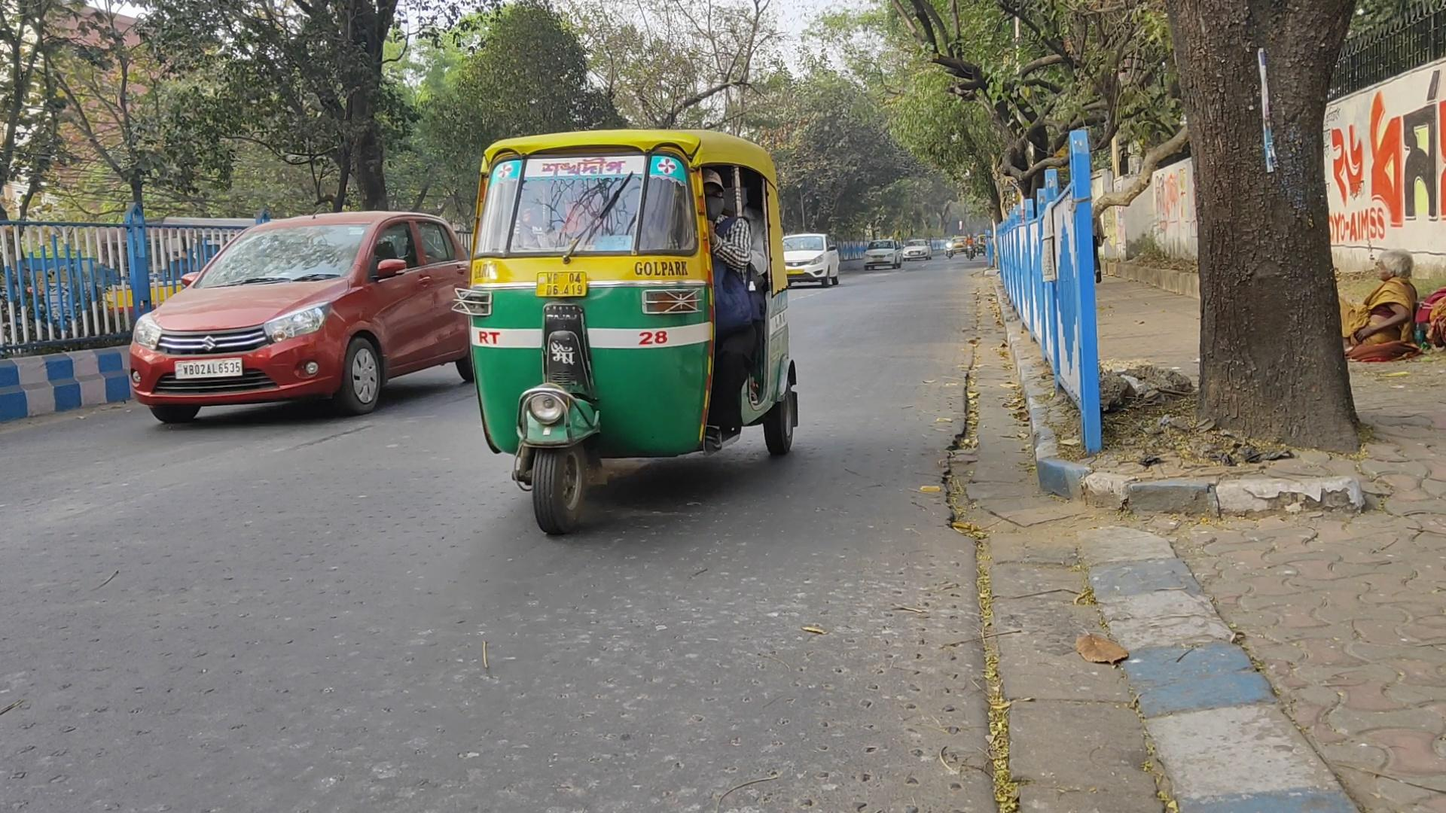Auto: (453, 129, 800, 536)
bike: (964, 232, 975, 260), (944, 236, 955, 260)
car: (129, 210, 473, 425), (783, 232, 840, 289), (862, 238, 903, 271), (903, 238, 933, 263)
